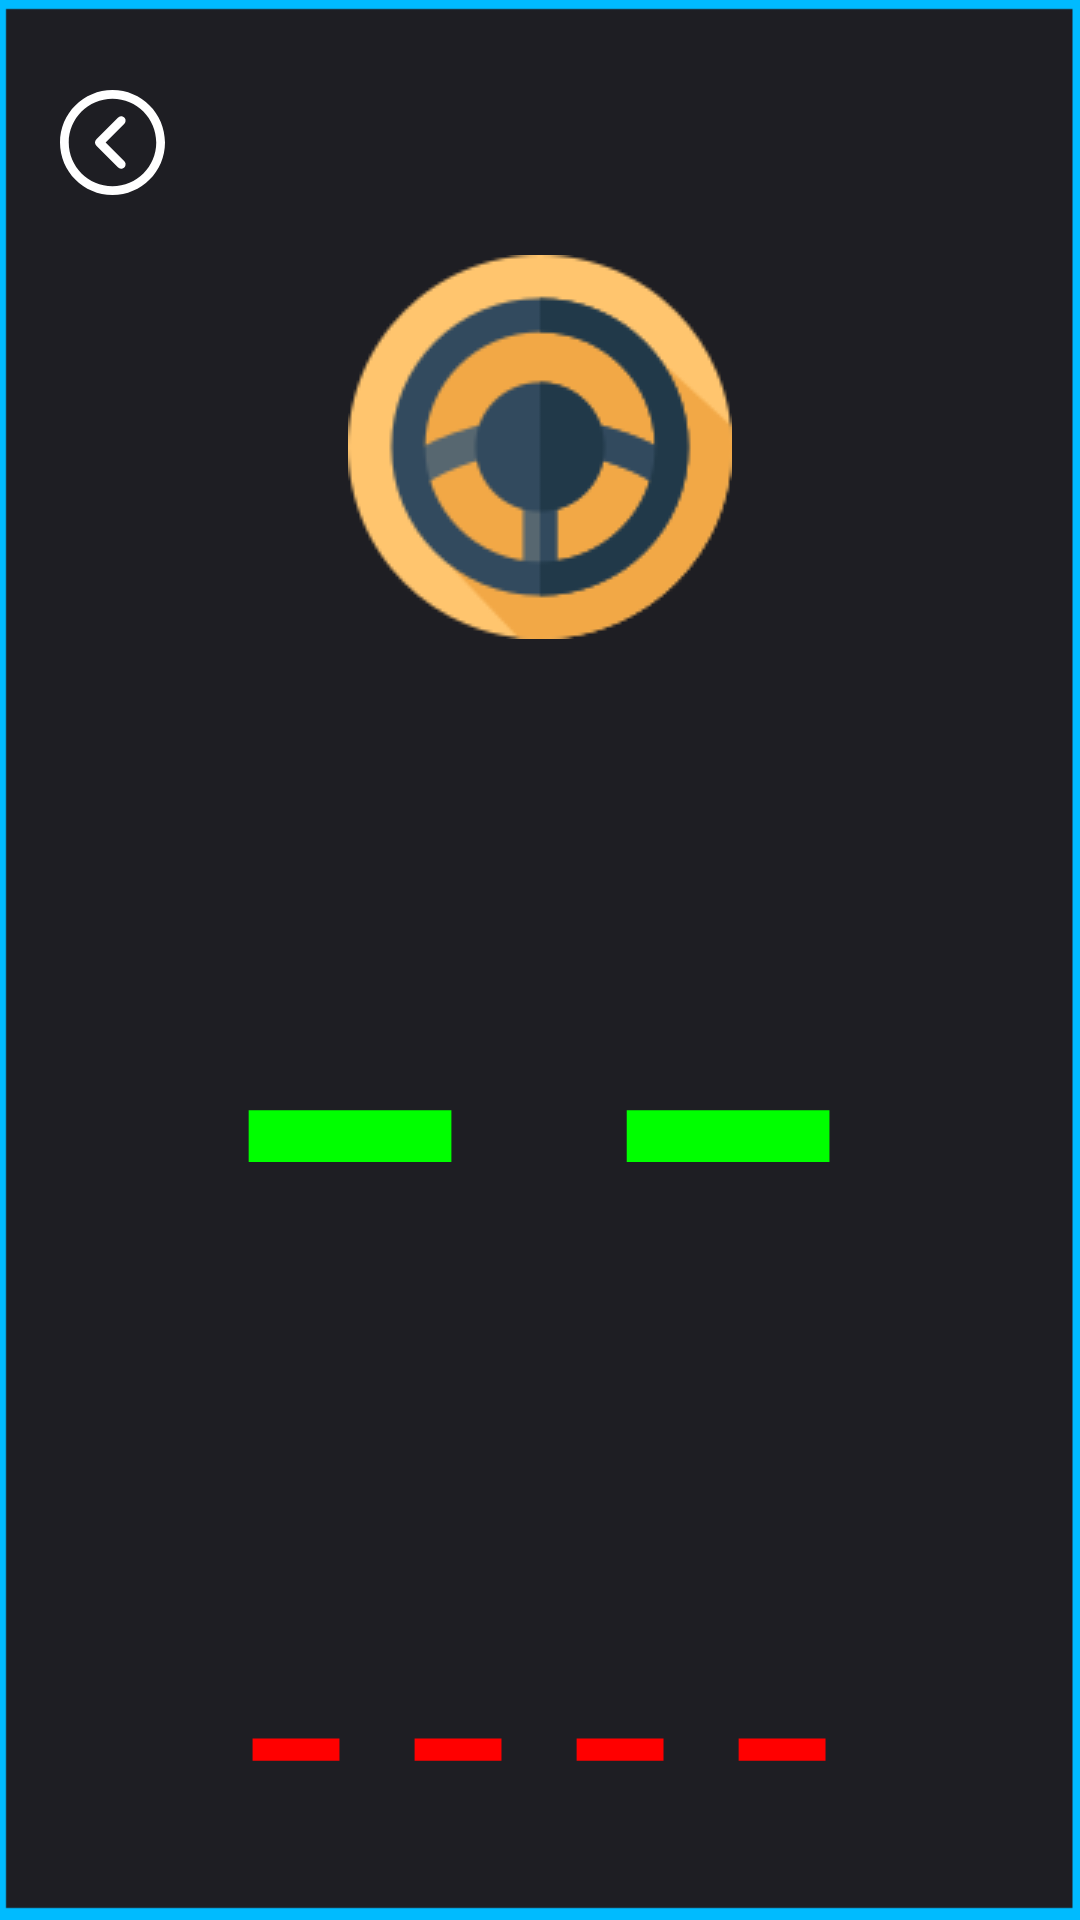

Icons on this 1080 x 1920 Android screen, each with its box as bbox=[x1, y1, x2, y2]:
previous: bbox=[60, 90, 165, 195]
